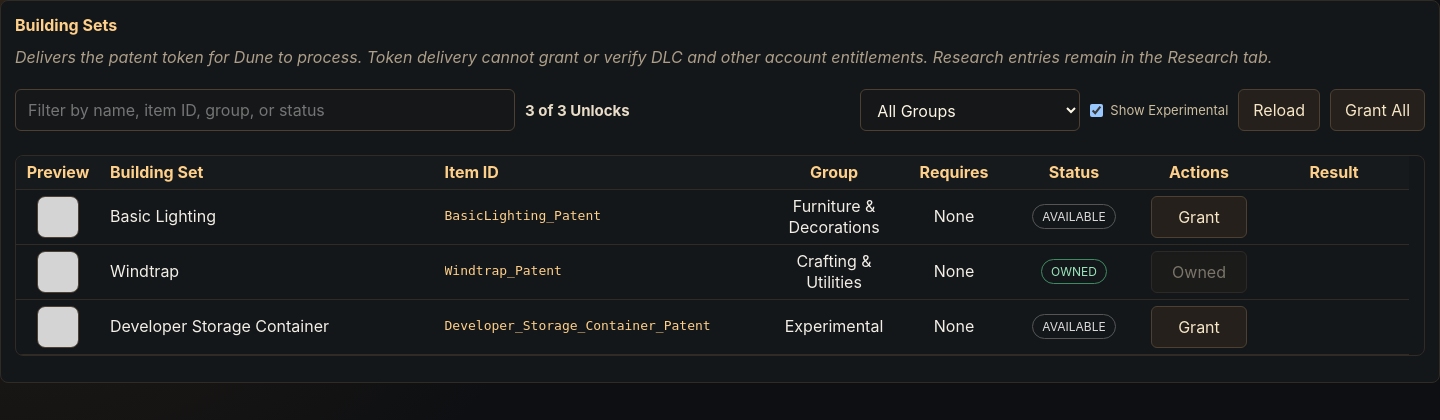
it: BuildingUnlocksTab › can hide experimental entries
This screenshot has width=1440, height=420.
Expected: the text "Developer Storage Container" is shown, [100,299,434,354]
Click the checkbox labelled "Show Experimental": [1097, 110] box [1090,104,1103,116]
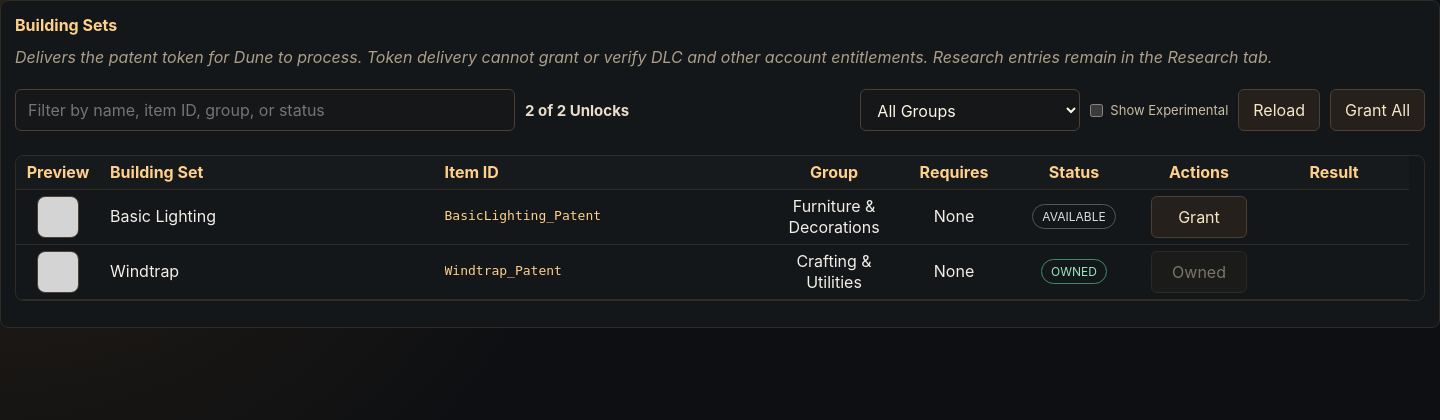
Expected: the text "Developer Storage Container" is gone
